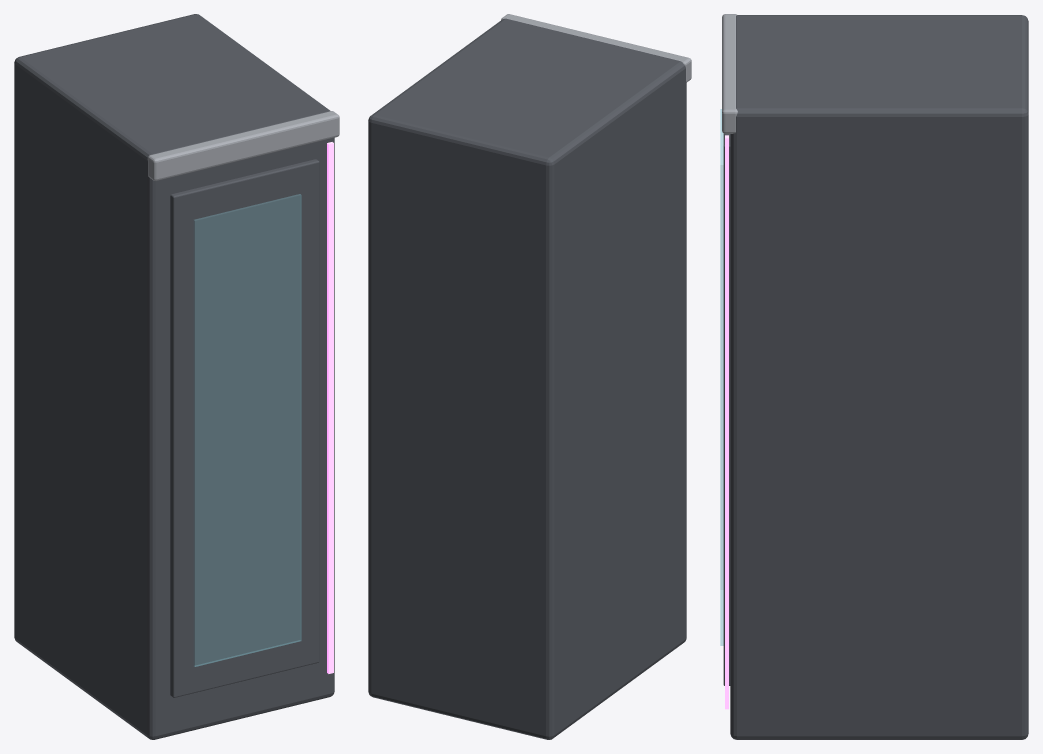
The model's file is server_rack_quantum_cabinet.glb.
The picture shows the model from 3 angles, left to right: view 1: azimuth 30°, elevation 25°; view 2: azimuth 150°, elevation 25°; view 3: azimuth 270°, elevation 25°; orthographic projection. The views are drawn at different scales.
Visible parts, largest first — view 1: GD_server_rack_quantum_cabinet__m0, GD_server_rack_quantum_cabinet__m1, GD_server_rack_quantum_cabinet__m4, GD_server_rack_quantum_cabinet__m2; view 2: GD_server_rack_quantum_cabinet__m0, GD_server_rack_quantum_cabinet__m4; view 3: GD_server_rack_quantum_cabinet__m0, GD_server_rack_quantum_cabinet__m2, GD_server_rack_quantum_cabinet__m1, GD_server_rack_quantum_cabinet__m4.
Boxes of the visible parts, x1,y1,x2,y2 form: GD_server_rack_quantum_cabinet__m0: (14, 14, 334, 739); GD_server_rack_quantum_cabinet__m1: (194, 194, 301, 666); GD_server_rack_quantum_cabinet__m4: (147, 111, 339, 180); GD_server_rack_quantum_cabinet__m2: (327, 142, 333, 673); GD_server_rack_quantum_cabinet__m0: (368, 18, 686, 739); GD_server_rack_quantum_cabinet__m4: (501, 14, 691, 82); GD_server_rack_quantum_cabinet__m0: (723, 15, 1028, 739); GD_server_rack_quantum_cabinet__m2: (725, 135, 728, 709); GD_server_rack_quantum_cabinet__m1: (720, 109, 723, 645); GD_server_rack_quantum_cabinet__m4: (722, 14, 737, 133).
Size of the model in its own units: 0.7 by 2.1 by 0.93.
